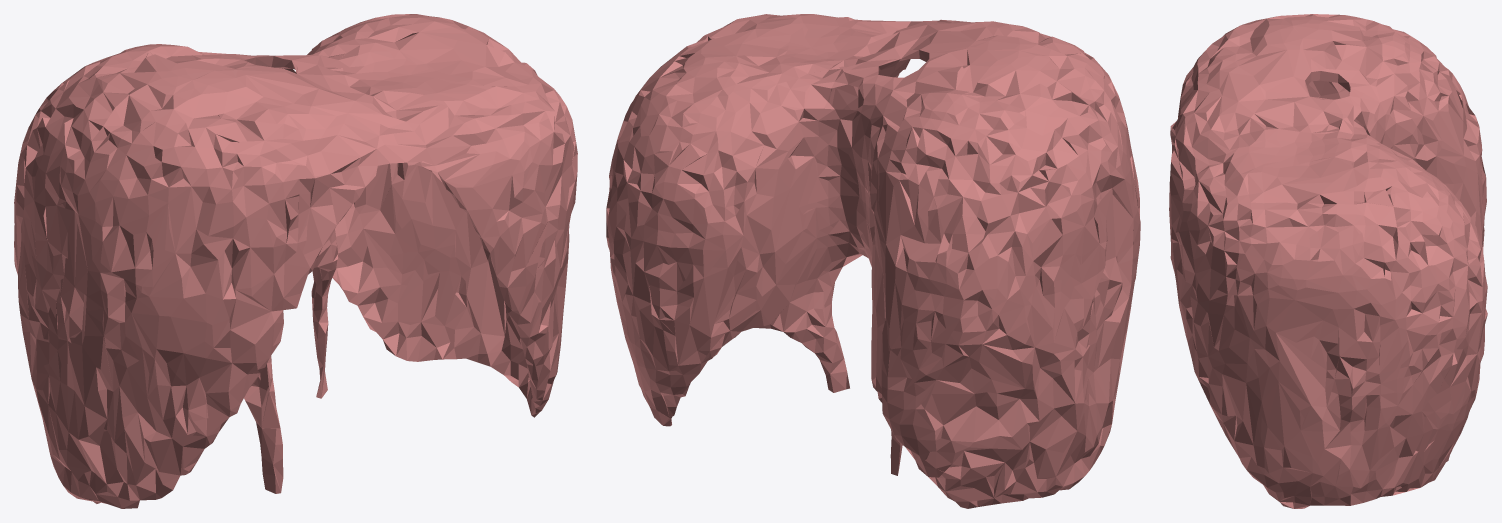
File: Diaphragm.mid.glb
The picture shows the model from 3 angles, left to right: view 1: azimuth 30°, elevation 25°; view 2: azimuth 150°, elevation 25°; view 3: azimuth 270°, elevation 25°; orthographic projection. The views are drawn at different scales.
Parts seen in each view (by area): view 1: Diaphragm; view 2: Diaphragm; view 3: Diaphragm.
Part boxes in pixels (x1,y1,x2,y2): Diaphragm: [14, 14, 577, 508]; Diaphragm: [606, 14, 1140, 508]; Diaphragm: [1169, 14, 1487, 508].
Bounding box in the file's own units: 0.2502 × 0.2215 × 0.1688.
